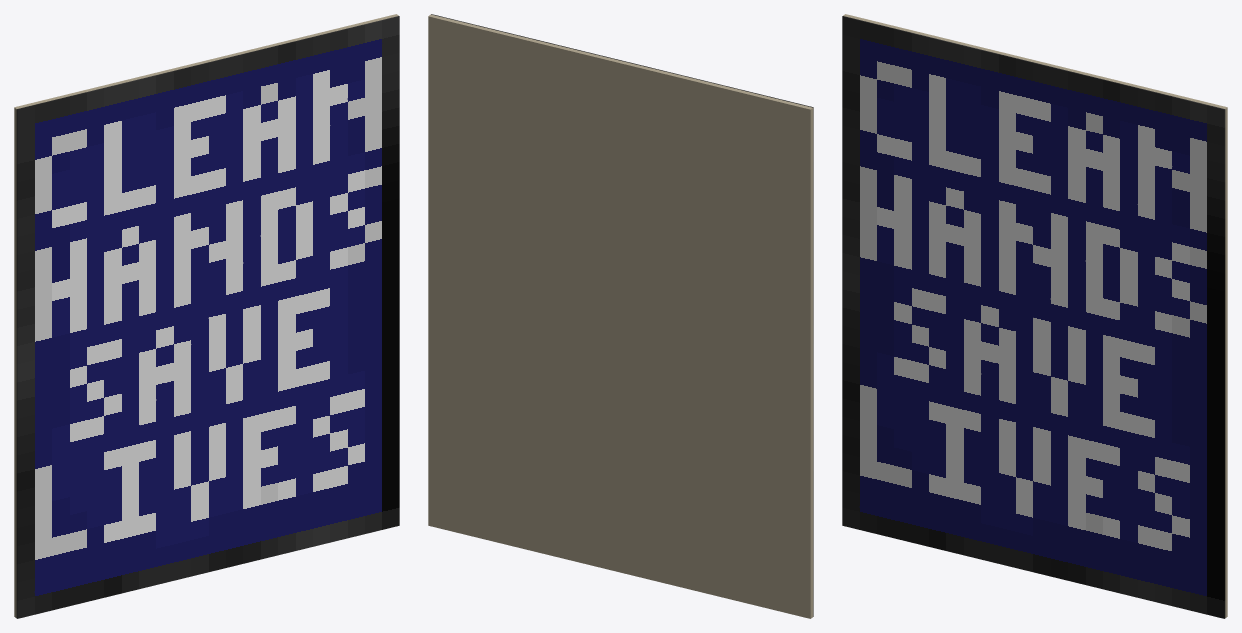
The model's file is CMU3DWallPosterPosterLegitCleanliness.glb.
3 renders of one model, left to right at view 1: azimuth 30°, elevation 25°; view 2: azimuth 150°, elevation 25°; view 3: azimuth 330°, elevation 25°, orthographic.
Visible parts, largest first — view 1: unchanged printed face, silhouette paper backing 0; view 2: silhouette paper backing 0, unchanged printed face; view 3: unchanged printed face, silhouette paper backing 0.
Part boxes in pixels (x1,y1,x2,y2): unchanged printed face: [16, 16, 399, 618]; silhouette paper backing 0: [14, 14, 398, 617]; silhouette paper backing 0: [428, 14, 813, 618]; unchanged printed face: [431, 14, 813, 616]; unchanged printed face: [842, 16, 1225, 618]; silhouette paper backing 0: [843, 14, 1227, 617].
Size of the model in its own units: 0.6875 by 0.875 by 0.01.
2 materials, 1 textured.
